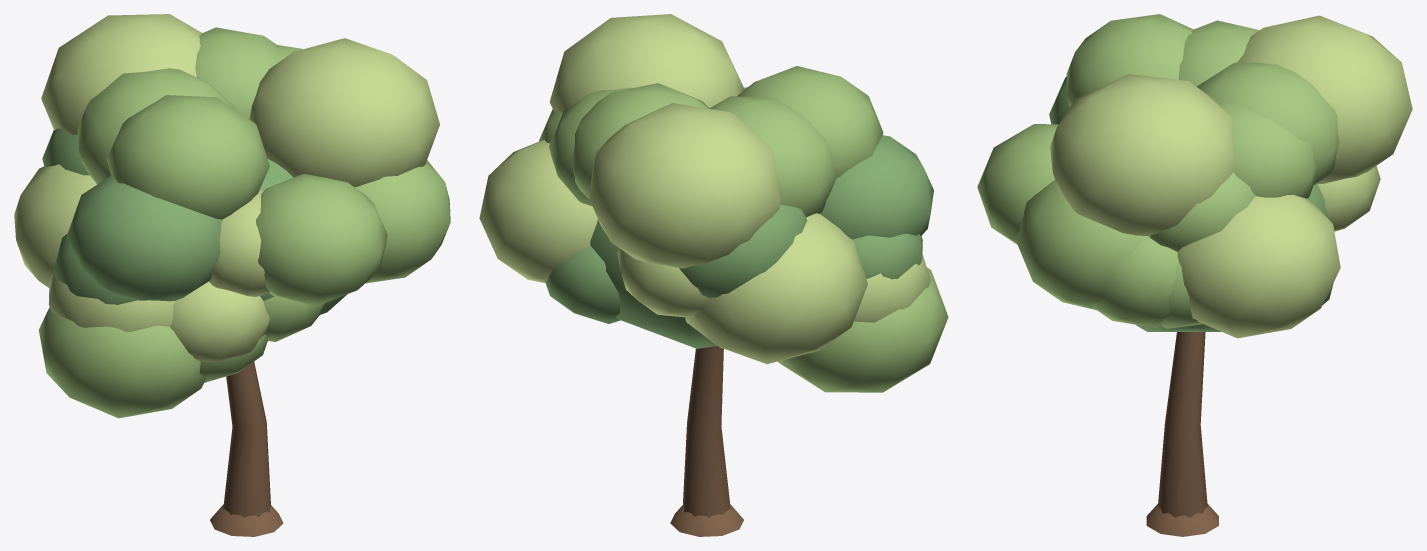
File: tree-large.glb
3 renders of one model, left to right at view 1: azimuth 30°, elevation 25°; view 2: azimuth 150°, elevation 25°; view 3: azimuth 270°, elevation 25°, orthographic.
Visible parts, largest first — view 1: tree-large; view 2: tree-large; view 3: tree-large.
Part boxes in pixels (x1,y1,x2,y2): tree-large: (14,14,450,536); tree-large: (479,14,948,536); tree-large: (977,14,1412,536).
Size of the model in its own units: 6.78 by 7.63 by 6.32.
